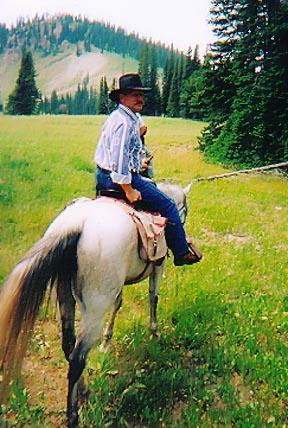person: (95, 72, 205, 268)
